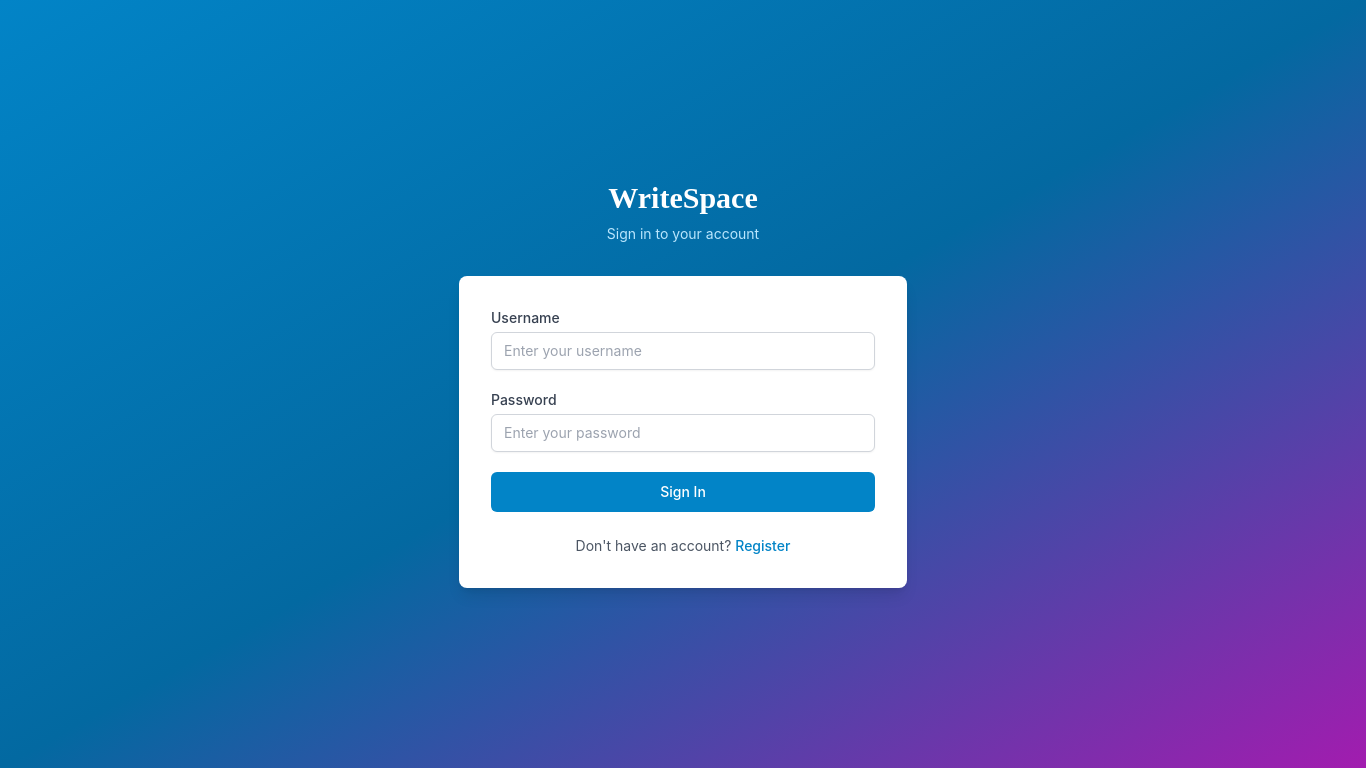
LoginPage › validation › shows error when password is empty
Type "someuser" into the field labelled "Username".
click(683, 351); type("someuser")  # box [491,332,875,370]
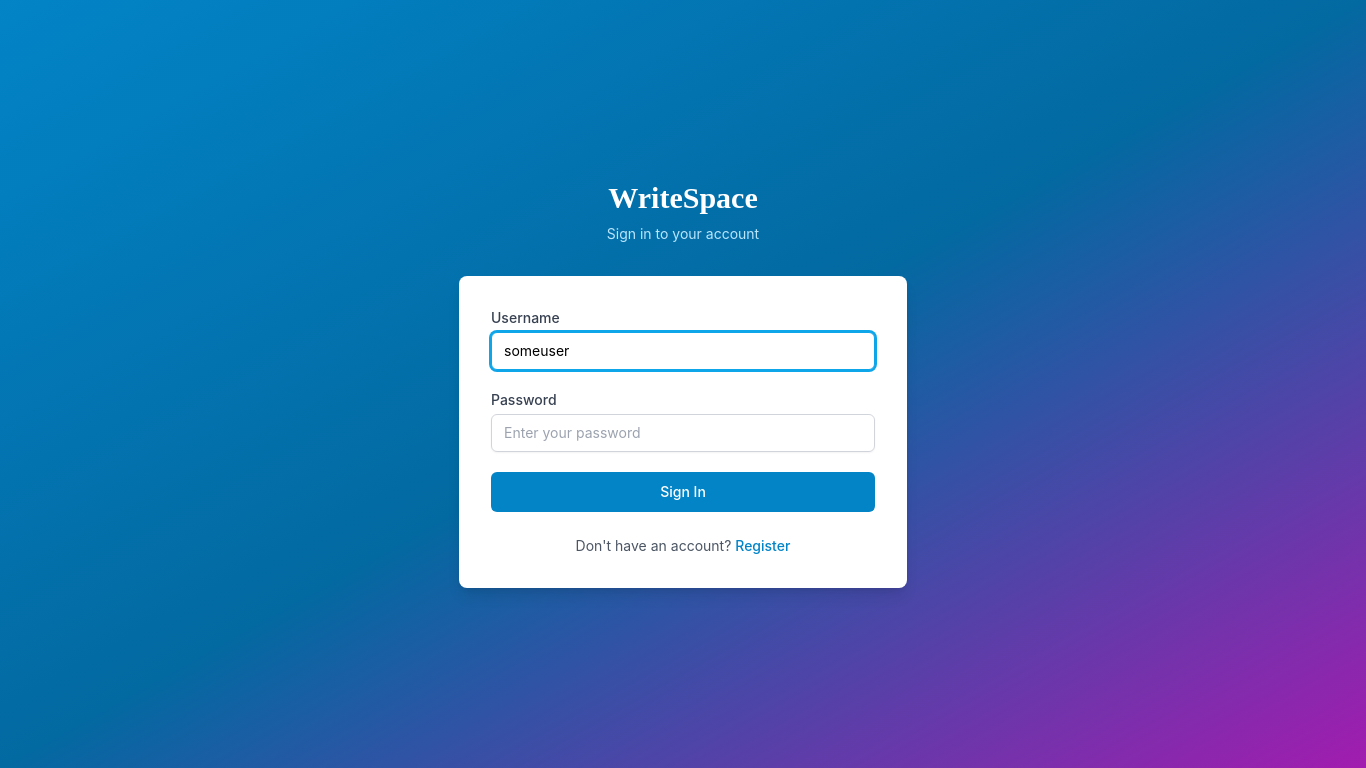
Click the button "Sign In".
click(683, 492)  # box [491,472,875,512]
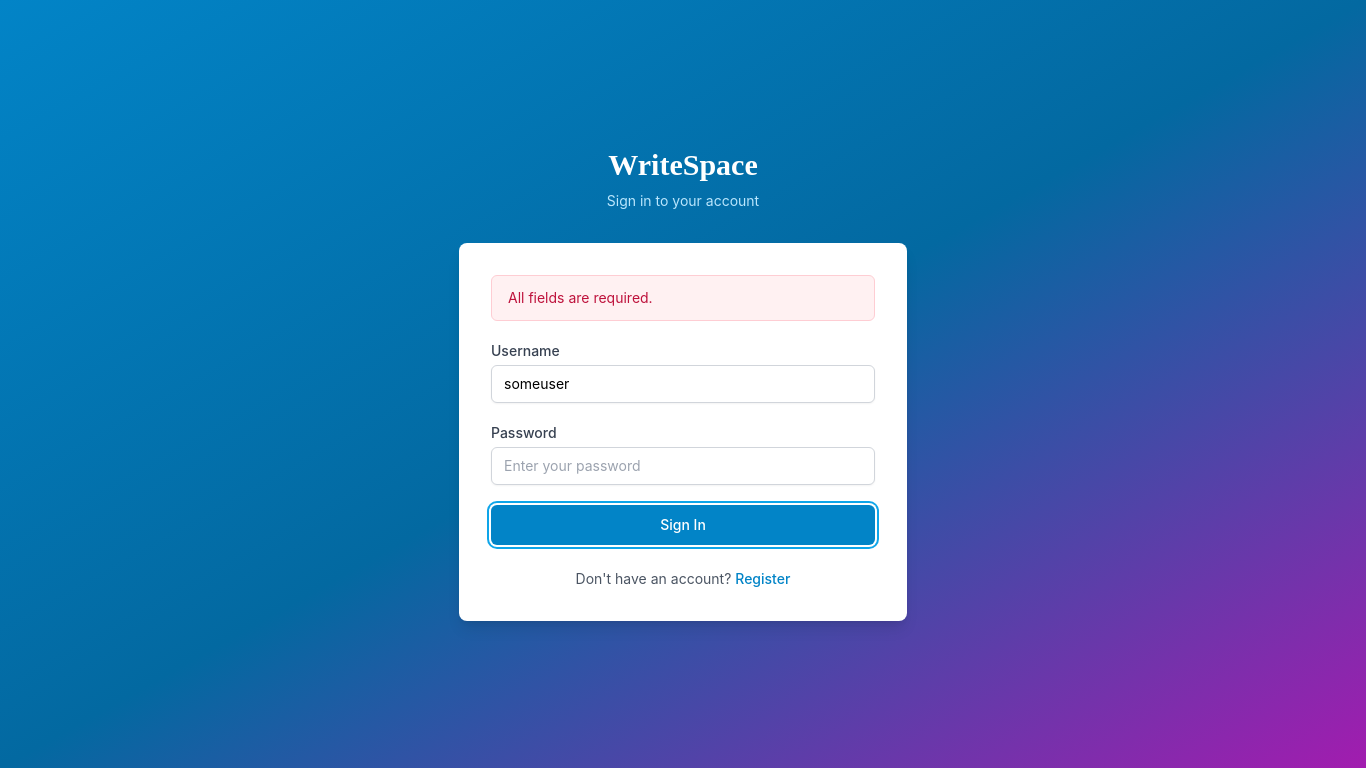
Check: the text "All fields are required." is shown, box [491,275,875,321]
